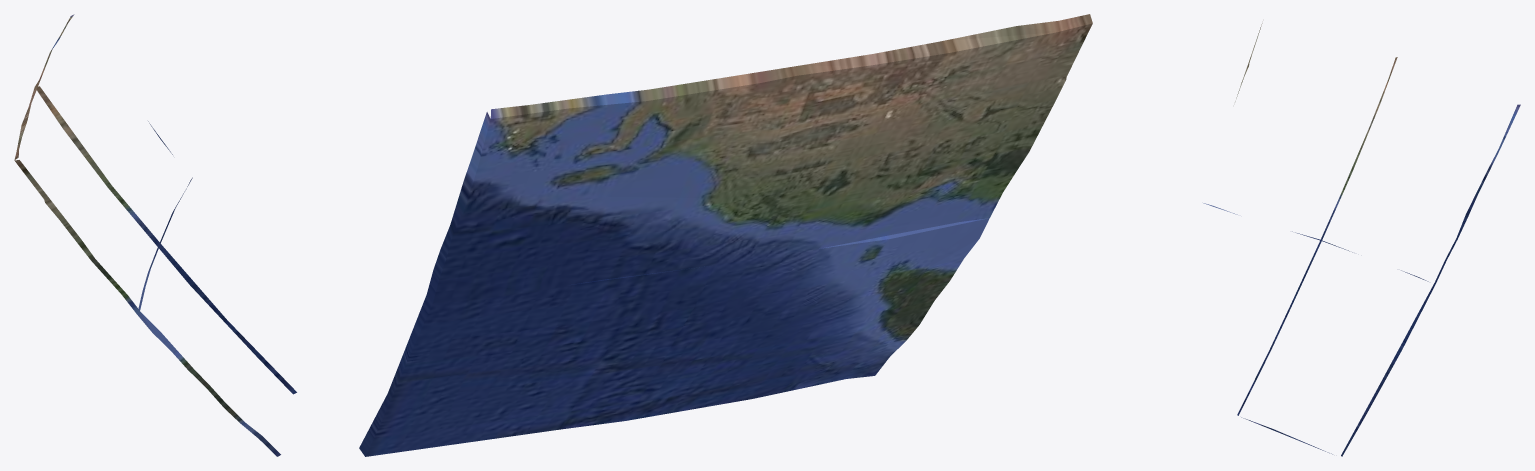
3 views of the same model, side by side, from view 1: azimuth 30°, elevation 25°; view 2: azimuth 150°, elevation 25°; view 3: azimuth 270°, elevation 25° (orthographic). The views are drawn at different scales.
Bounding box in the file's own units: 1242327 × 983779 × 1265430.
1 material, 1 textured.
